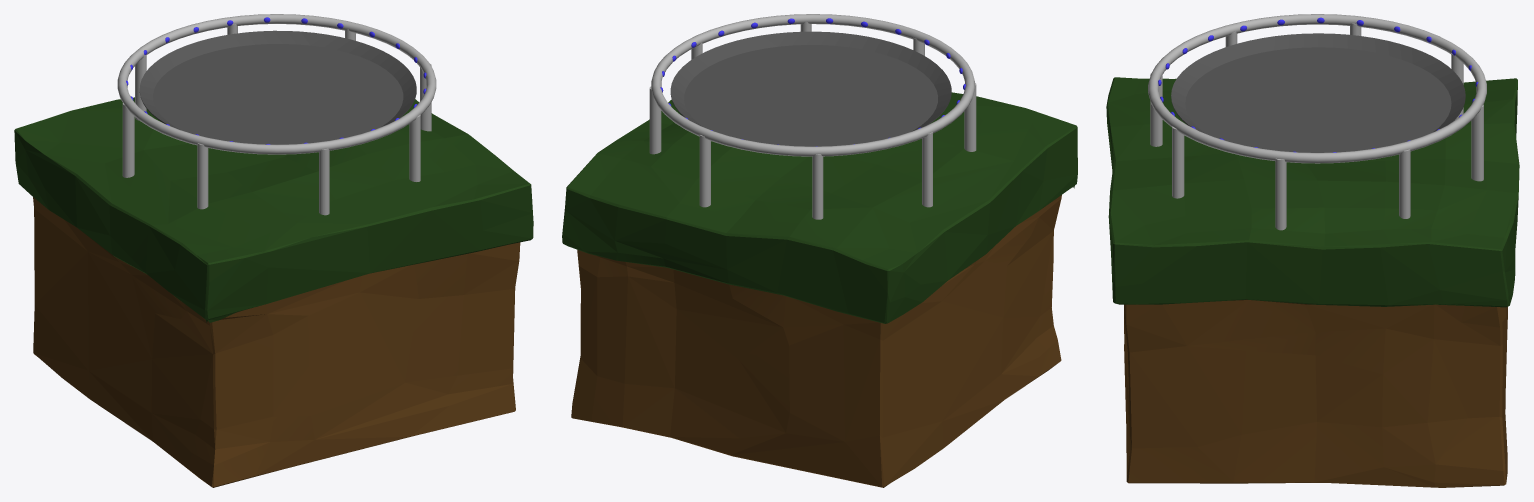
Rendered from tile_trampolin.gltf.
3 views of the same model, side by side, from view 1: azimuth 30°, elevation 25°; view 2: azimuth 150°, elevation 25°; view 3: azimuth 270°, elevation 25° (orthographic). The views are drawn at different scales.
Visible parts, largest first — view 1: hill.004, Torus; view 2: hill.004, Torus; view 3: hill.004, Torus.
Boxes of the visible parts, x1=… form: hill.004: x1=14, y1=97, x2=533, y2=487; Torus: x1=117, y1=14, x2=436, y2=215; hill.004: x1=562, y1=92, x2=1077, y2=487; Torus: x1=649, y1=14, x2=976, y2=219; hill.004: x1=1106, y1=77, x2=1519, y2=487; Torus: x1=1148, y1=14, x2=1486, y2=230.
Bounding box in the file's own units: 1.07 × 0.946 × 1.09.
